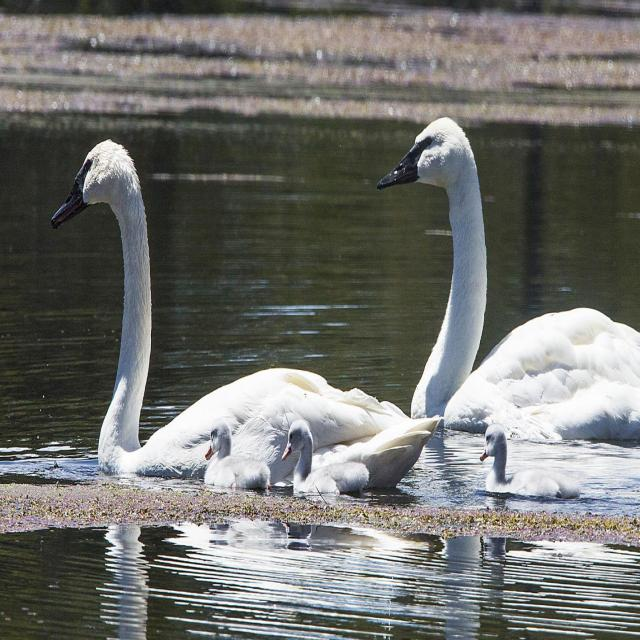swan: (51, 140, 440, 486), (378, 117, 640, 440), (480, 424, 580, 498), (282, 419, 369, 494), (205, 420, 270, 489)
